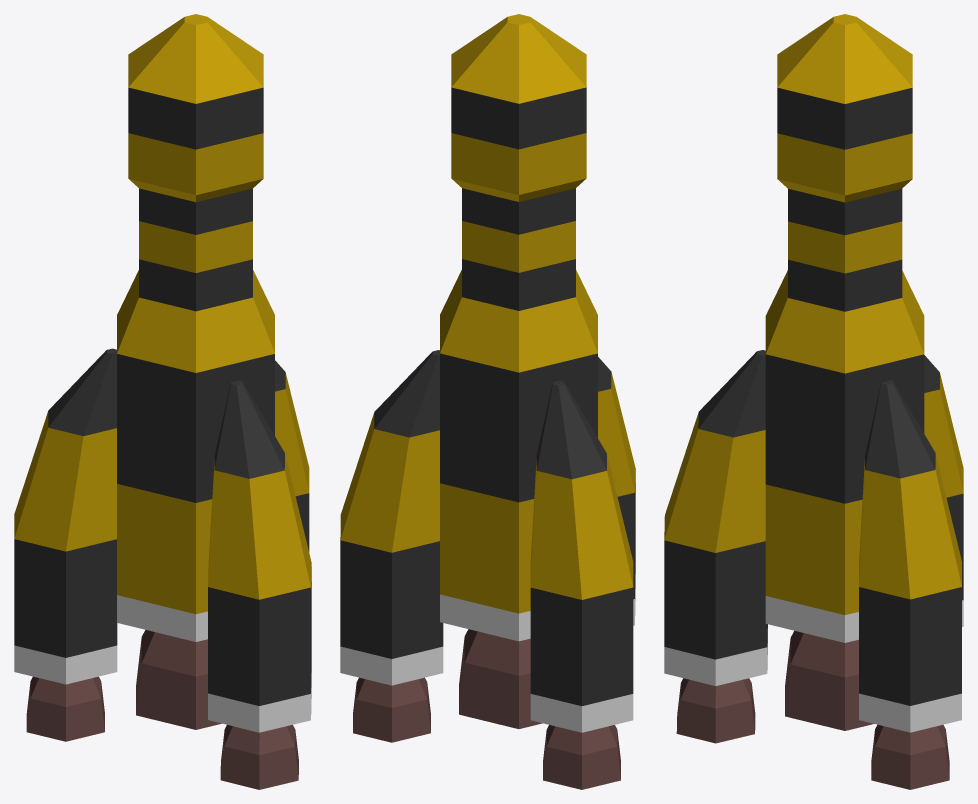
The model's file is Coete_Luna.fbx.
The picture shows the model from 3 angles, left to right: view 1: azimuth 30°, elevation 25°; view 2: azimuth 150°, elevation 25°; view 3: azimuth 270°, elevation 25°; orthographic projection.
Visible parts, largest first — view 1: Level06_Ship1; view 2: Level06_Ship1; view 3: Level06_Ship1.
Part boxes in pixels (x1,y1,x2,y2): Level06_Ship1: (14,14,311,789); Level06_Ship1: (340,14,635,789); Level06_Ship1: (664,14,963,789).
Size of the model in its own units: 631 by 1444 by 556.
